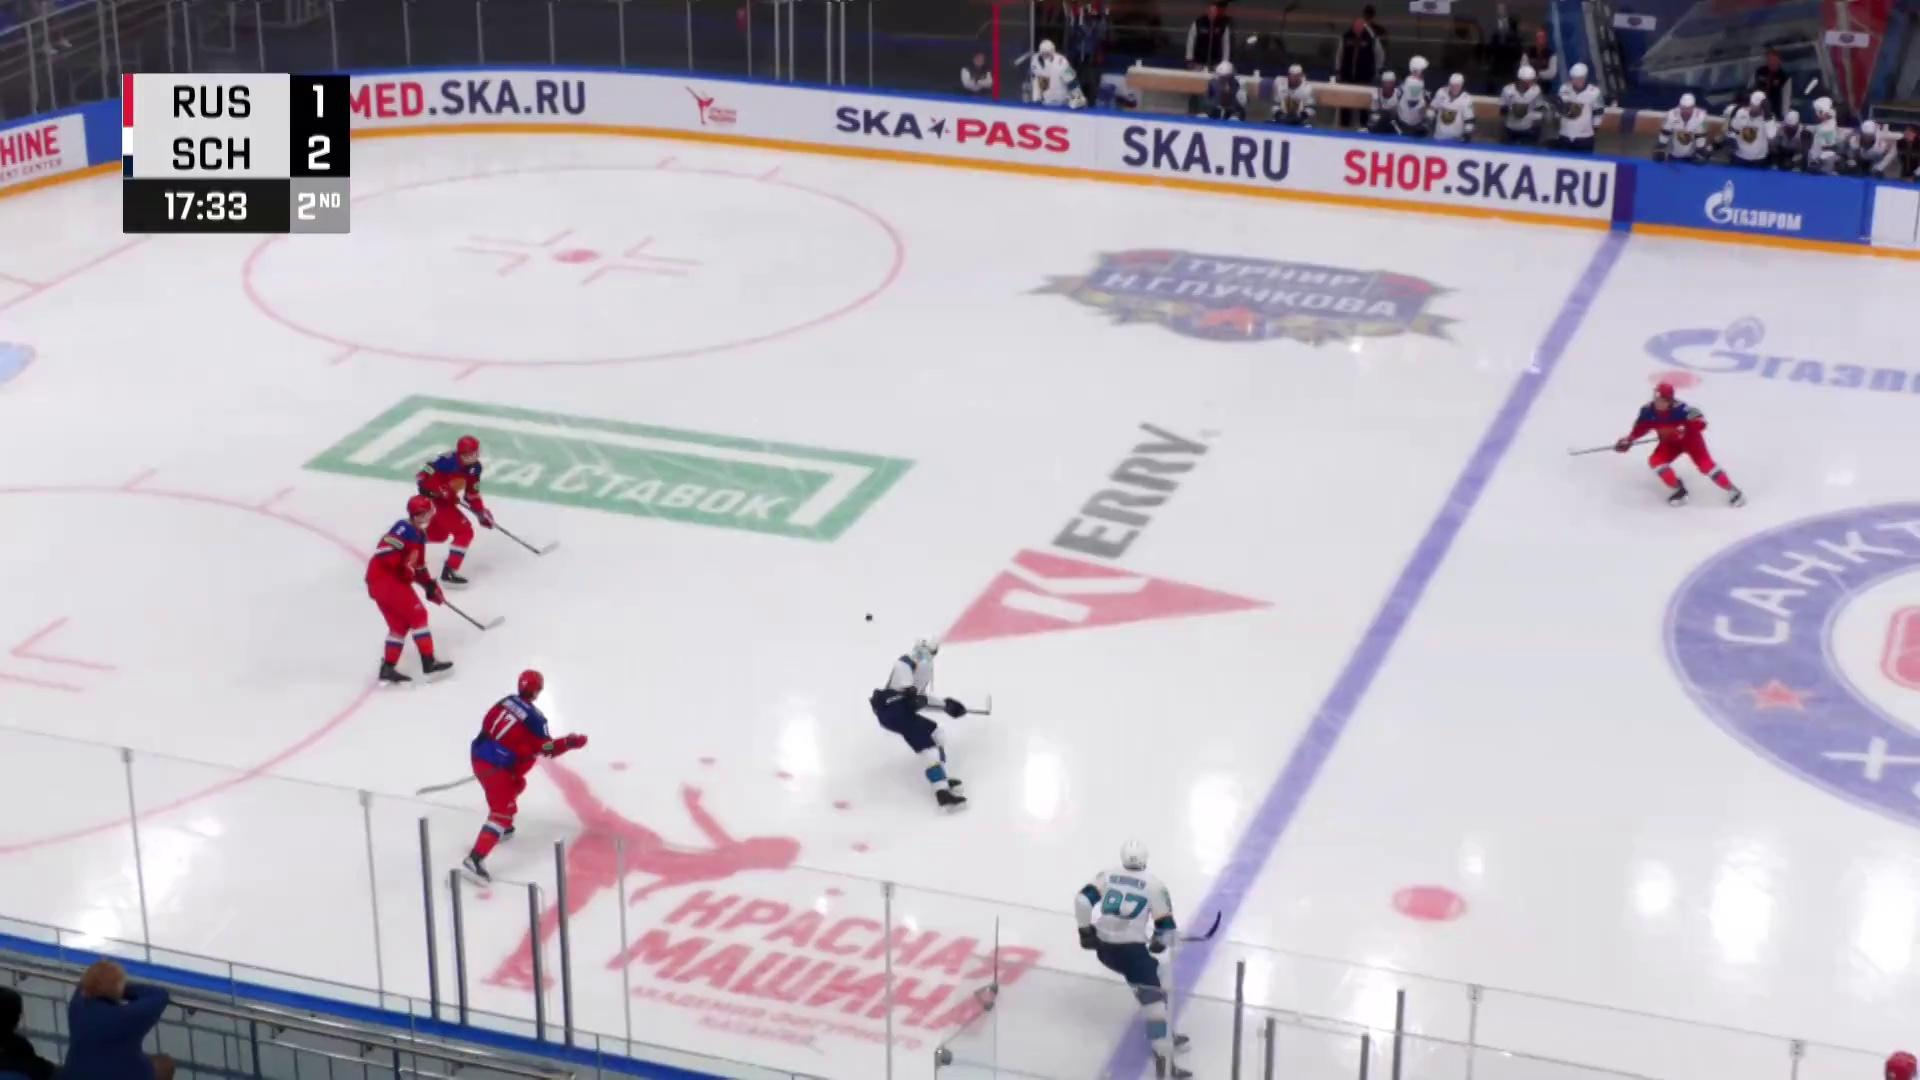ball: (864, 613, 874, 622)
